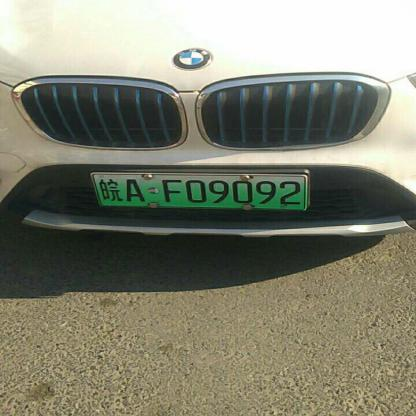lp: (92, 172, 306, 209)
